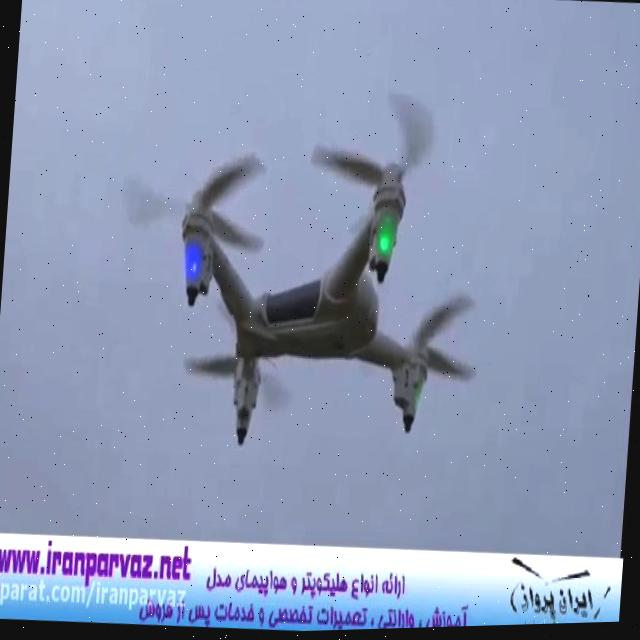drone: (97, 61, 501, 477)
